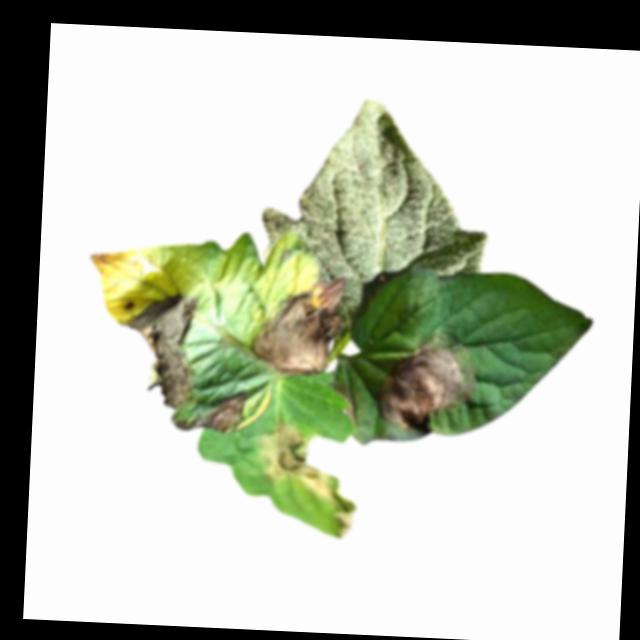Late_blight: (252, 417, 362, 541), (370, 328, 475, 432), (113, 287, 198, 409), (244, 273, 342, 376), (172, 386, 247, 436), (330, 379, 358, 422)
healthy: (255, 94, 494, 327)
